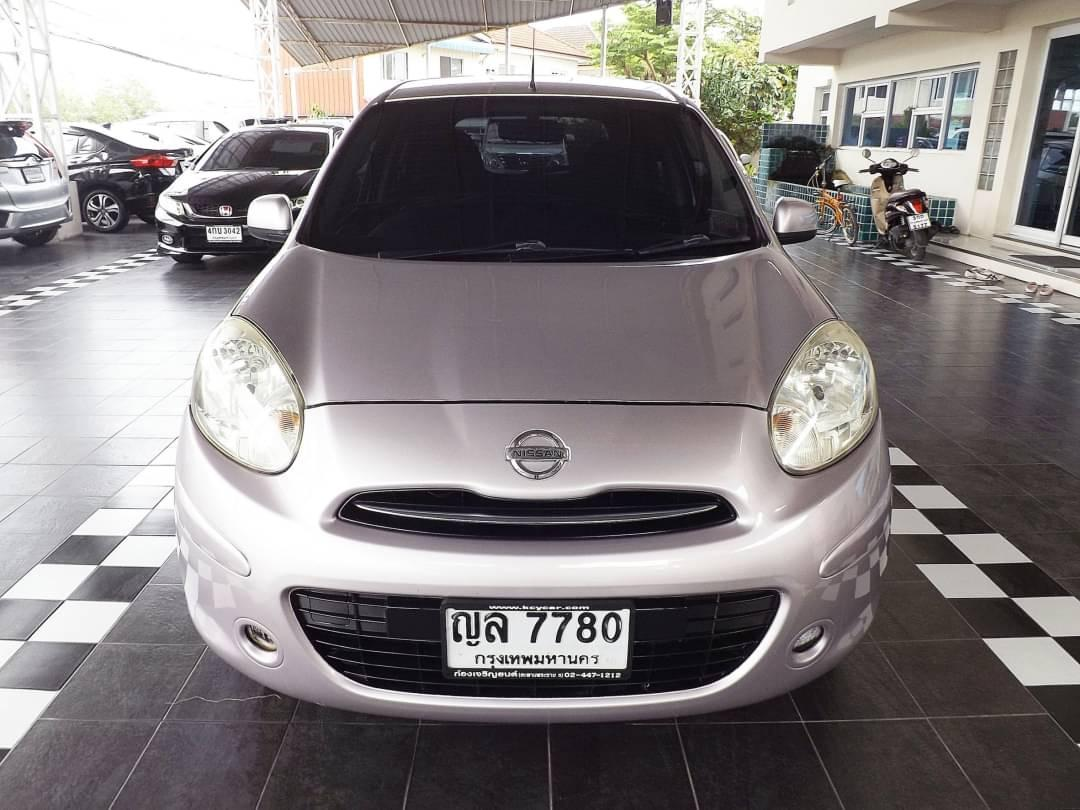license-plate: (438, 597, 641, 693)
